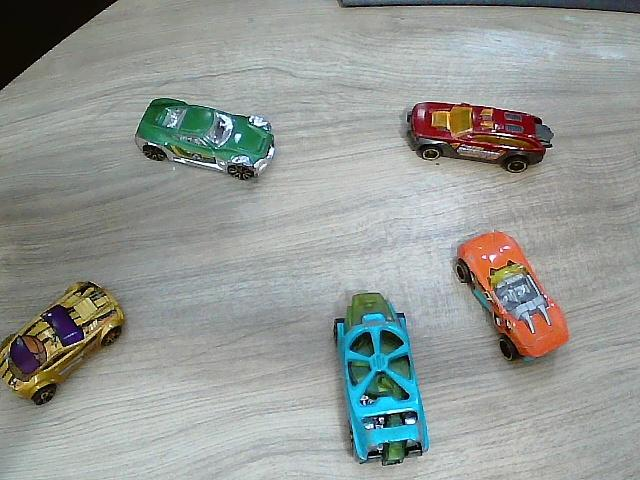Carro: (337, 293, 431, 467), (0, 282, 126, 407), (454, 232, 570, 362), (136, 98, 276, 179), (405, 102, 554, 173)
